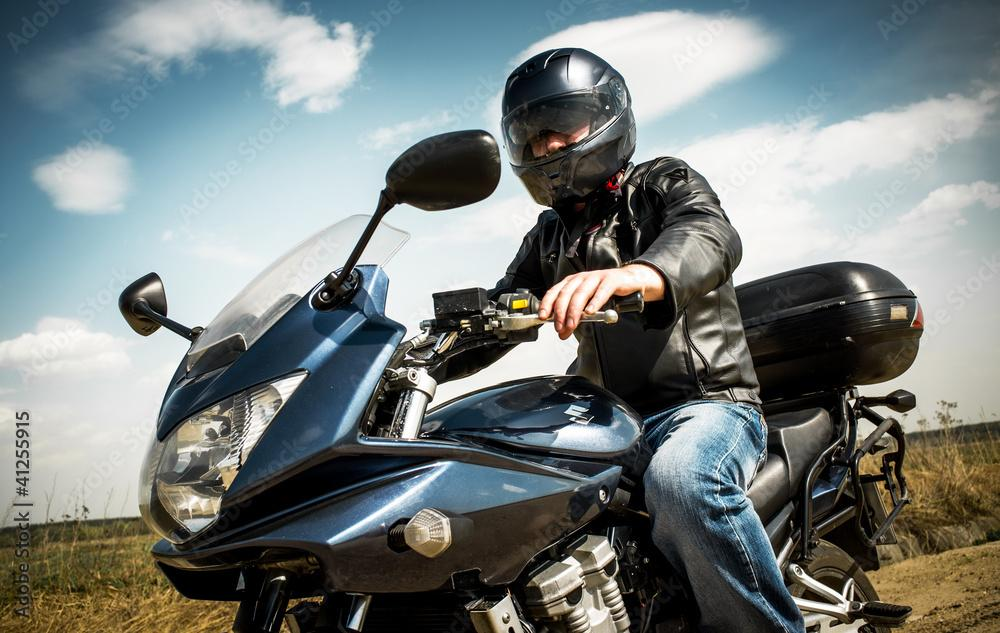helmet: (499, 46, 638, 209)
